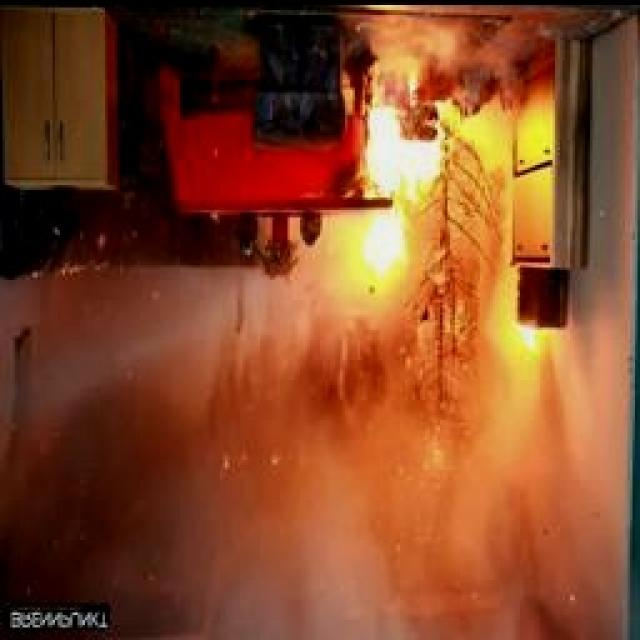fire: (340, 84, 535, 354)
